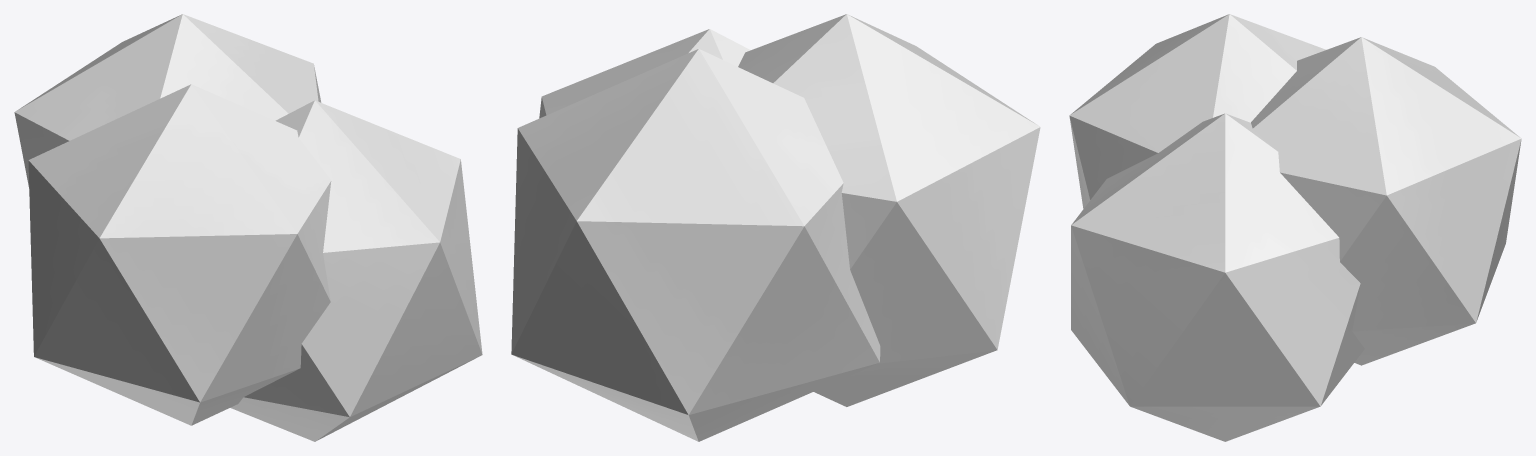
File: smoke.dae
3 renders of one model, left to right at view 1: azimuth 30°, elevation 25°; view 2: azimuth 150°, elevation 25°; view 3: azimuth 270°, elevation 25°, orthographic. The views are drawn at different scales.
Visible parts, largest first — view 1: Smoke; view 2: Smoke; view 3: Smoke.
Part boxes in pixels (x1,y1,x2,y2): Smoke: (14, 14, 482, 441); Smoke: (511, 14, 1040, 441); Smoke: (1069, 14, 1521, 441).
Size of the model in its own units: 0.3992 by 0.395 by 0.3625.
Materials: 1 (1 with a texture image).
